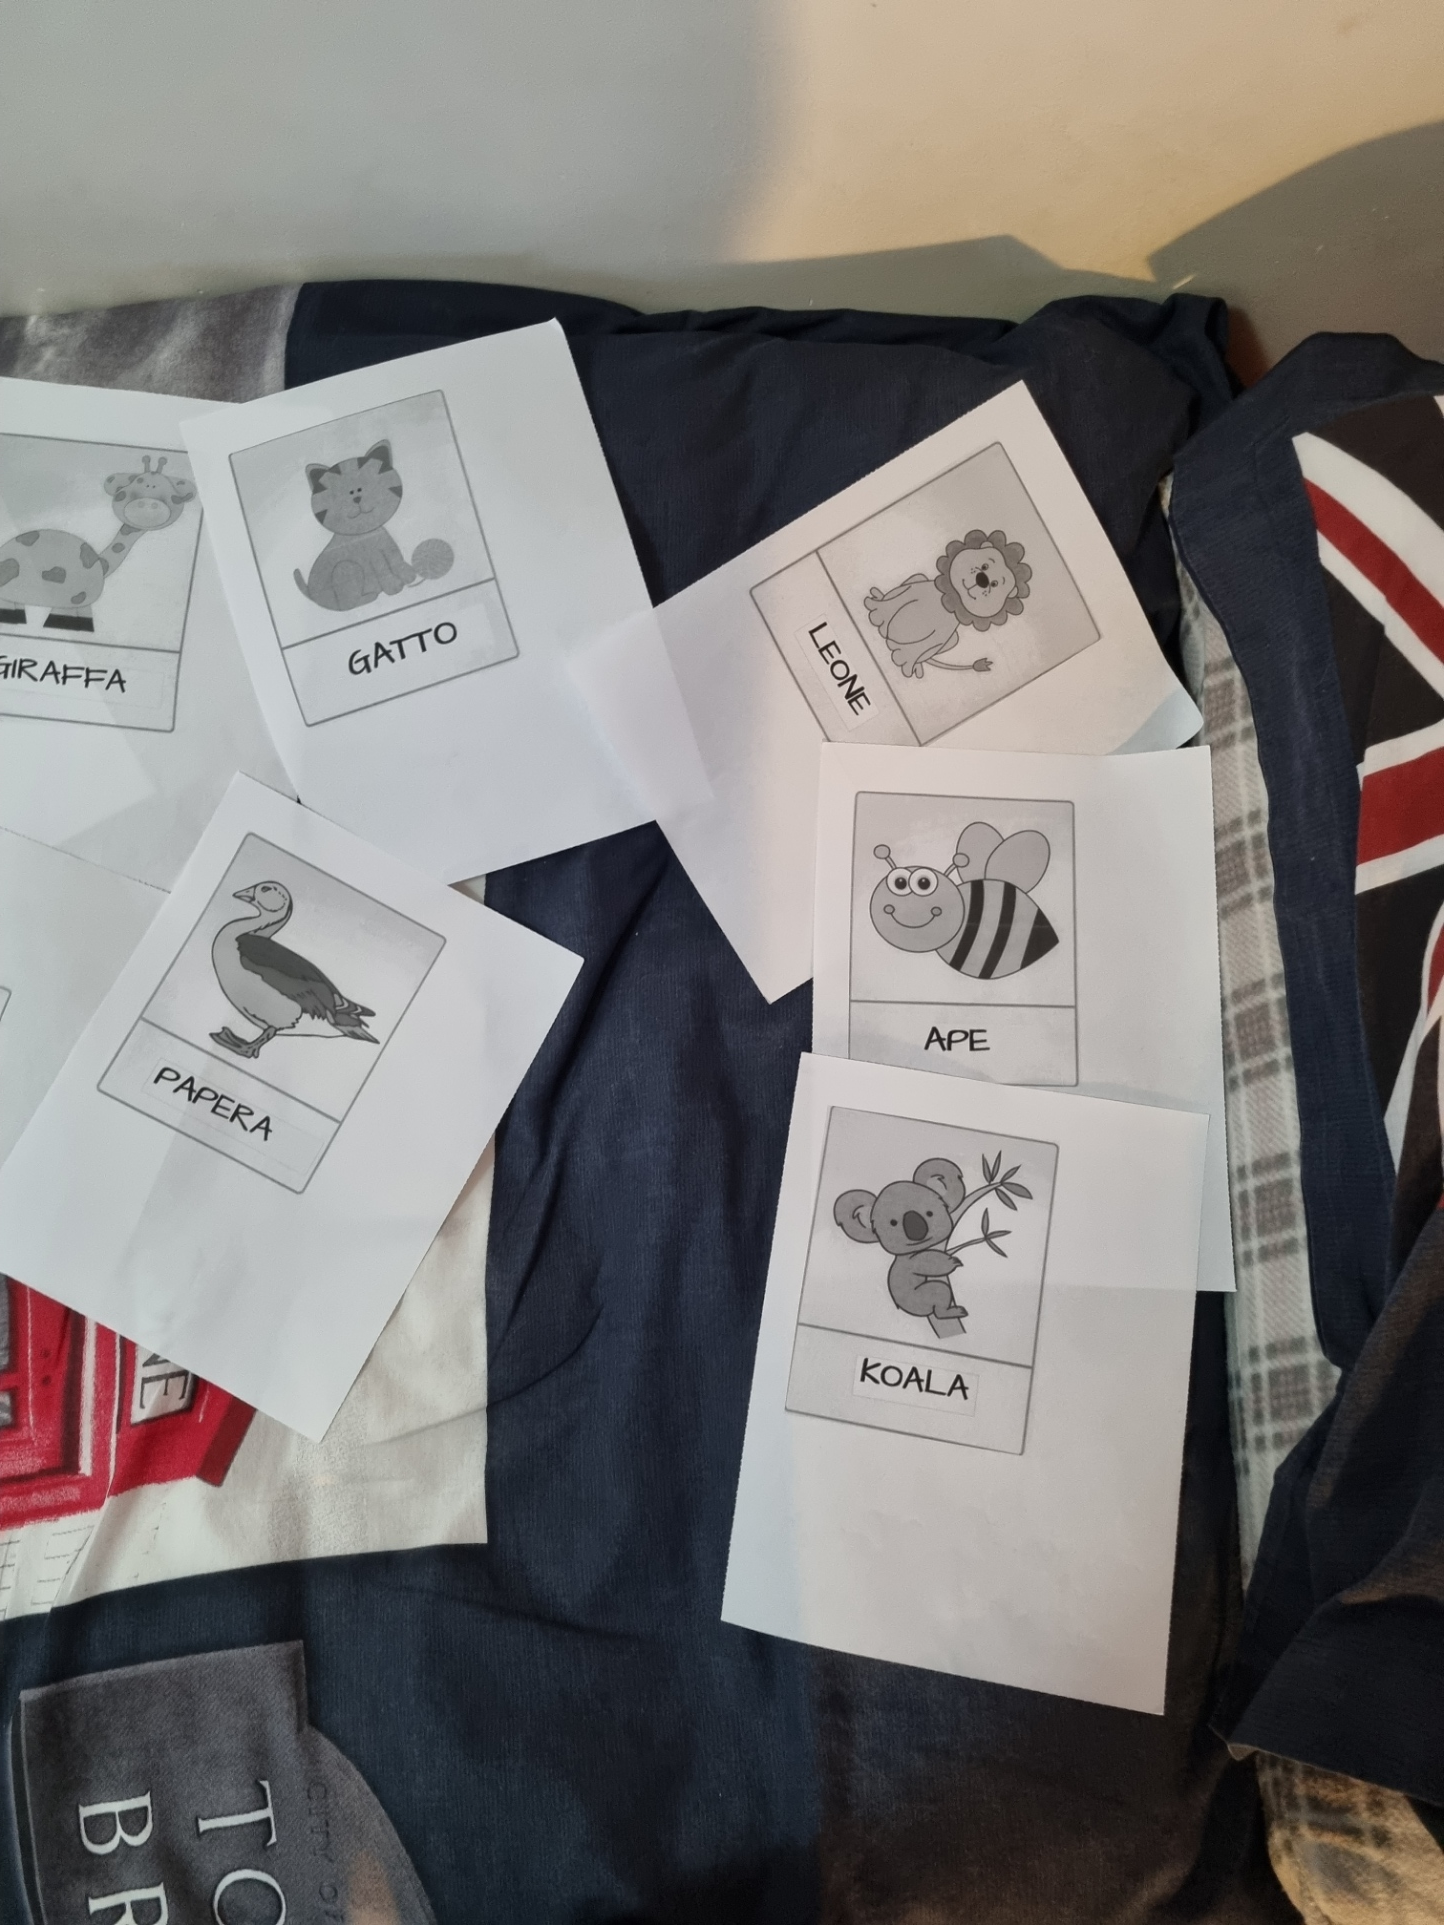ape: (852, 794, 1084, 1078)
gatto: (248, 434, 502, 702)
giraffa: (1, 432, 196, 718)
koala: (804, 1104, 1056, 1442)
leone: (788, 514, 1090, 734)
papera: (120, 856, 392, 1178)
